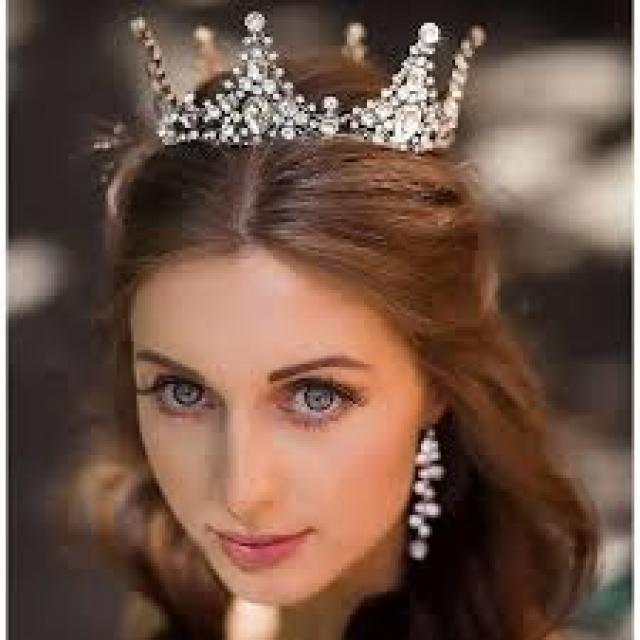Earring: (396, 416, 473, 580)
